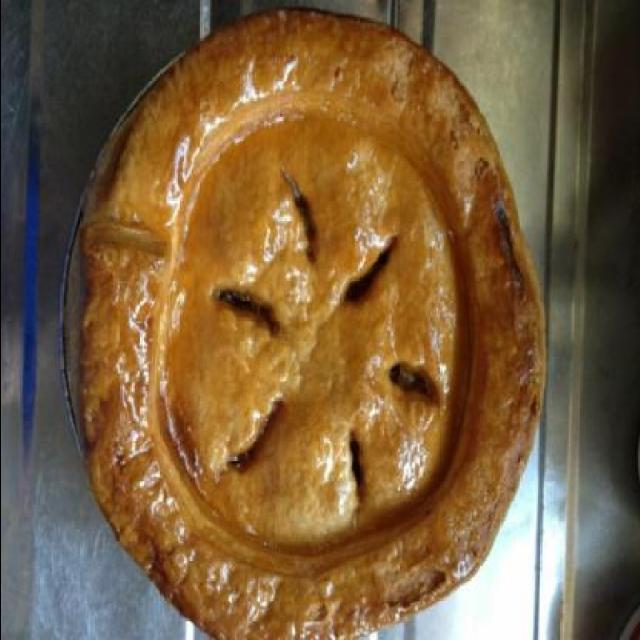Apple: (71, 32, 543, 634)
